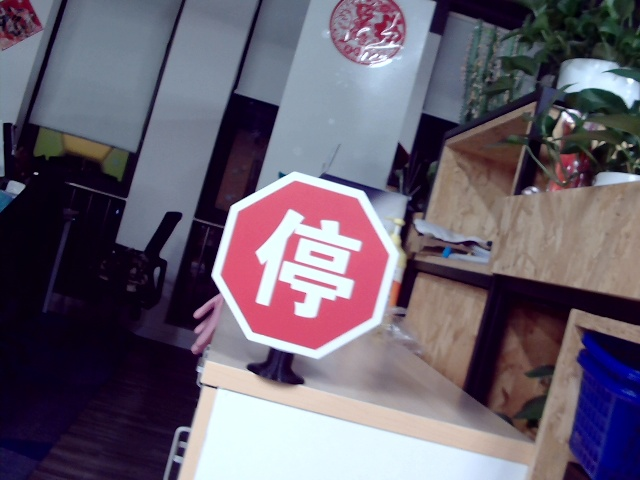stop: (256, 205, 360, 318)
